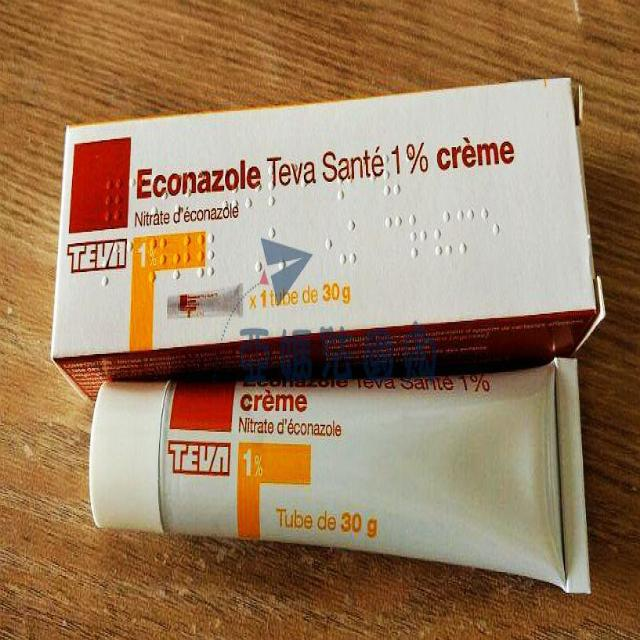-Hazardous waste - medicine inner packaging-: (89, 372, 600, 607)
-Recyclables - paper box-: (49, 64, 606, 380)
